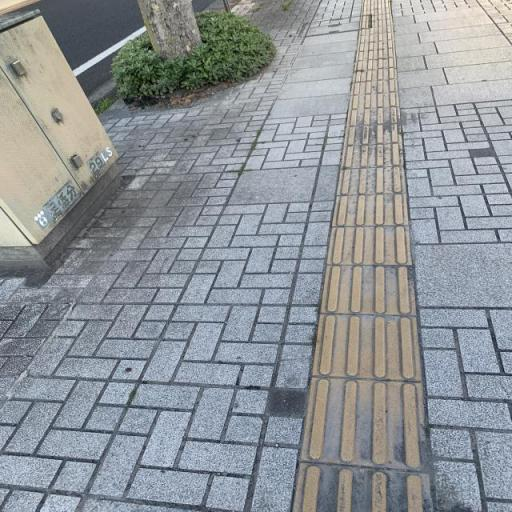line: (302, 375, 428, 473), (313, 316, 420, 382), (321, 265, 415, 313), (329, 226, 413, 266), (332, 191, 409, 224)
